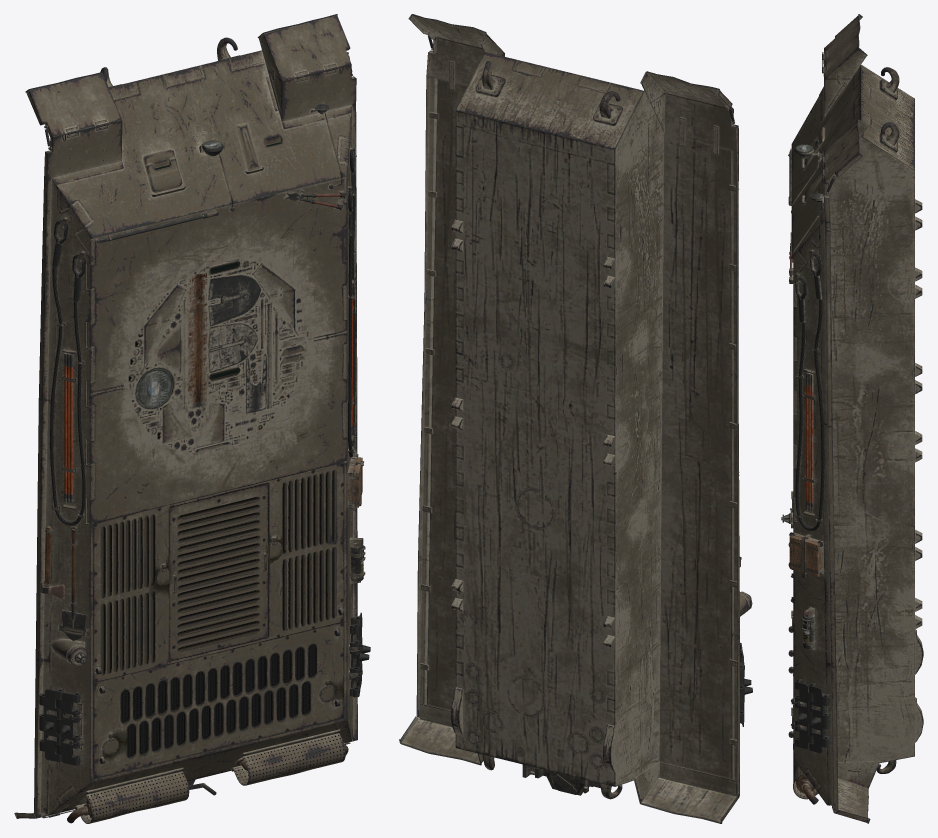
File: Hull.glb
The picture shows the model from 3 angles, left to right: view 1: azimuth 30°, elevation 25°; view 2: azimuth 150°, elevation 25°; view 3: azimuth 270°, elevation 25°; orthographic projection. The views are drawn at different scales.
Parts seen in each view (by area): view 1: set_0_group_0; view 2: set_0_group_0; view 3: set_0_group_0.
Part boxes in pixels (x1,y1,x2,y2): set_0_group_0: [14, 14, 370, 823]; set_0_group_0: [399, 14, 752, 823]; set_0_group_0: [781, 14, 923, 823].
Size of the model in its own units: 3.4 by 7.37 by 1.4.
Materials: 1 (1 with a texture image).
